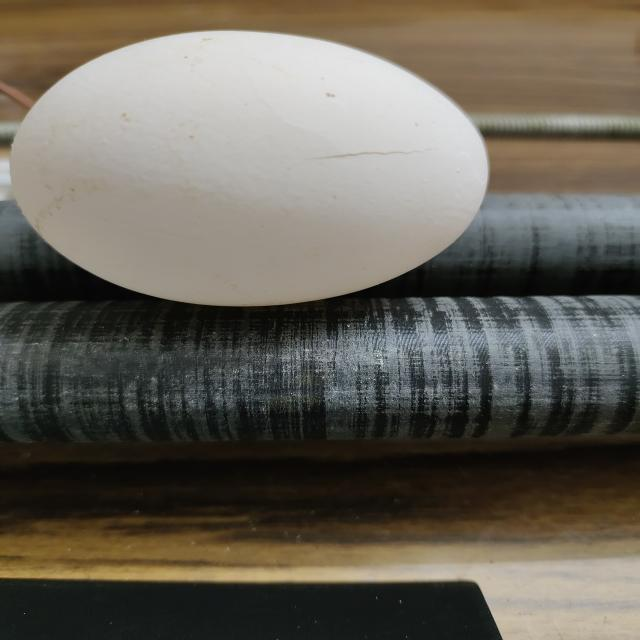Eggs: (11, 30, 488, 308)
